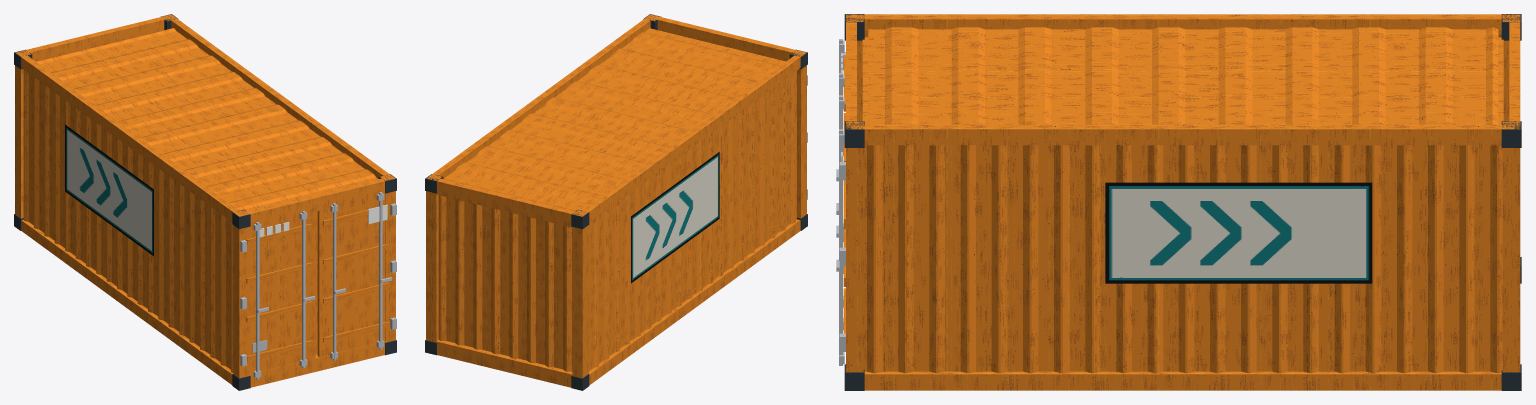
The model's file is container_orange.glb.
The picture shows the model from 3 angles, left to right: view 1: azimuth 30°, elevation 25°; view 2: azimuth 150°, elevation 25°; view 3: azimuth 270°, elevation 25°; orthographic projection. The views are drawn at different scales.
Visible parts, largest first — view 1: harbor_container_orange; view 2: harbor_container_orange; view 3: harbor_container_orange.
Part boxes in pixels (left/top/right/bottom): harbor_container_orange: left=14, top=14, right=396, bottom=390; harbor_container_orange: left=425, top=14, right=807, bottom=390; harbor_container_orange: left=836, top=14, right=1521, bottom=390.
Bounding box in the file's own units: 2.46 × 2.59 × 6.15.
Materials: 6 (3 with a texture image).
